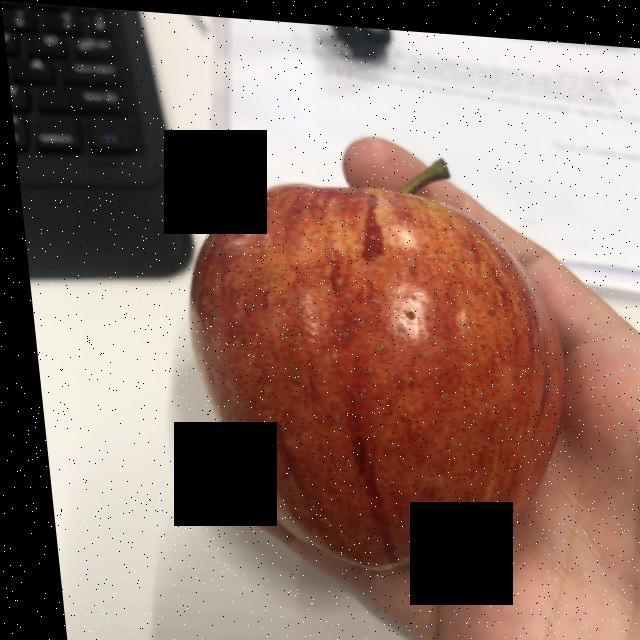apple: (188, 182, 548, 555)
